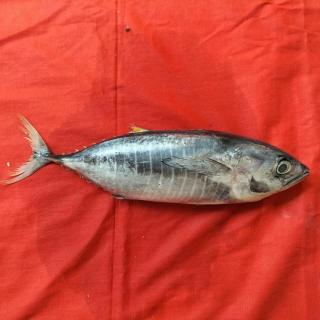Ikan: (9, 102, 316, 226)
